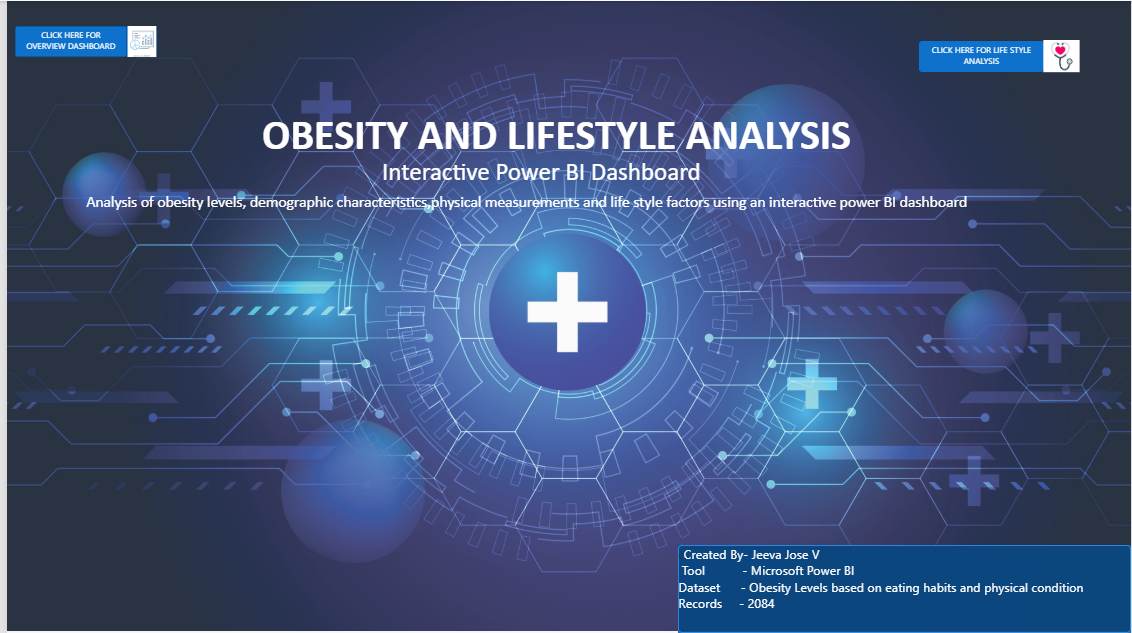

The page's visual inventory and layout, read from the dashboard file:
{"tool":"powerbi","page":{"name":"Home","canvas":[1920,1080],"ordinal":0},"visuals":[{"type":"textbox","box":[435.8,184.6,1192.8,141.8],"z":0},{"type":"textbox","box":[640.8,264.9,685.3,61.5],"z":1000},{"type":"textbox","box":[109.4,326.4,1556.8,88.9],"z":2000},{"type":"actionButton","box":[13.7,42.7,191.4,53],"z":3000},{"type":"actionButton","box":[1558.5,68.4,213.6,53],"z":4000},{"type":"image","box":[205.1,42.7,51.3,53],"z":5000},{"type":"image","box":[1725.9,66.6,152.1,54.7],"z":6000},{"type":"shape","box":[1146.6,929.6,774.1,150.4],"z":7000},{"type":"textbox","box":[1146.6,929.6,774.1,150.4],"z":8000}]}

Visuals, with their boxes in screenshot pixels (x1, y1, x2, y2), scaled from the page's 1920x1080 canvas onto the 1132x633 screenshot:
textbox: 257,108,960,191
textbox: 378,155,782,191
textbox: 65,191,982,243
actionButton: 8,25,121,56
actionButton: 919,40,1045,71
image: 121,25,151,56
image: 1018,39,1107,71
shape: 676,545,1131,632
textbox: 676,545,1131,632
